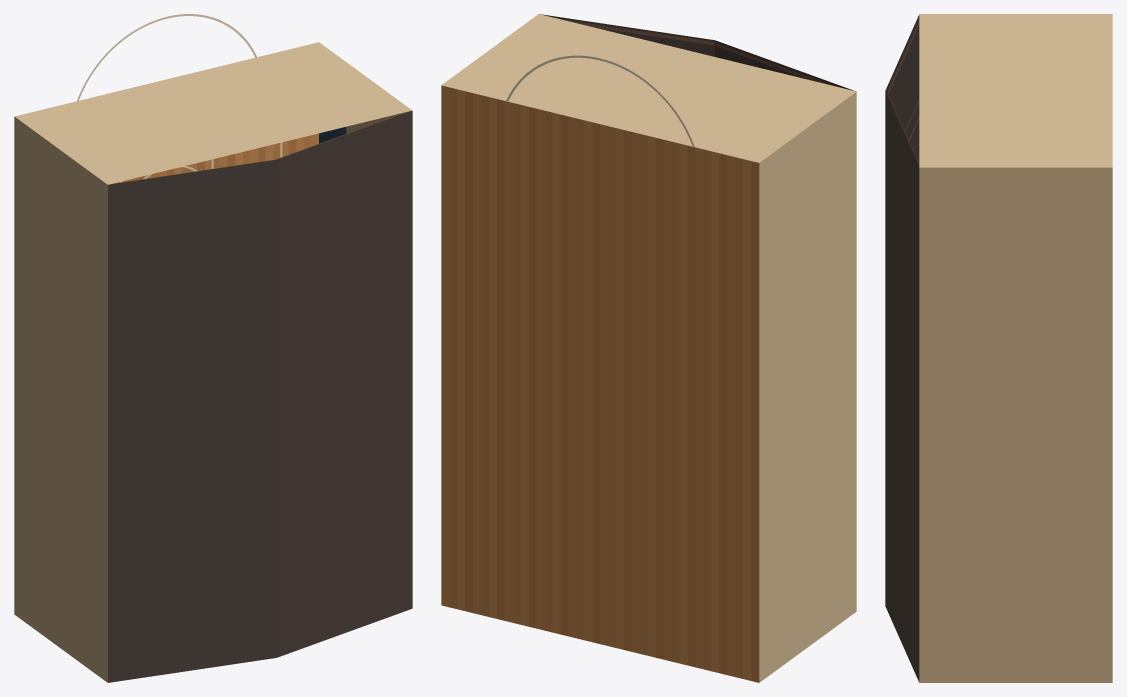
Rendered from gym_scene.obj.
The picture shows the model from 3 angles, left to right: view 1: azimuth 30°, elevation 25°; view 2: azimuth 150°, elevation 25°; view 3: azimuth 270°, elevation 25°; orthographic projection. The views are drawn at different scales.
Size of the model in its own units: 16 by 28.15 by 10.
